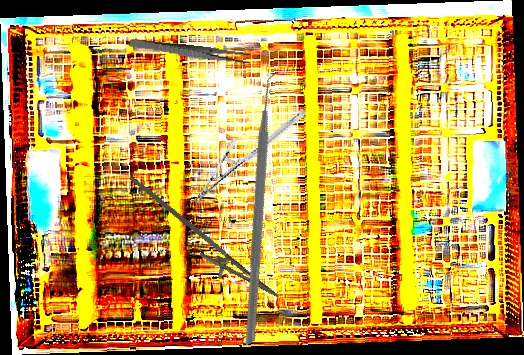Chopper: (139, 65, 396, 346)
Dressing Forceps: (128, 37, 252, 66)
Needle Holder: (109, 175, 291, 310), (192, 84, 308, 228)
